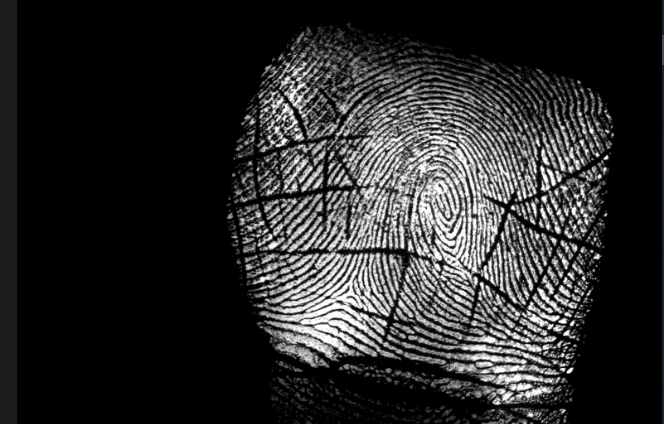nucelo: (424, 179, 456, 224)
verticilo: (336, 277, 362, 303), (451, 259, 477, 281)
